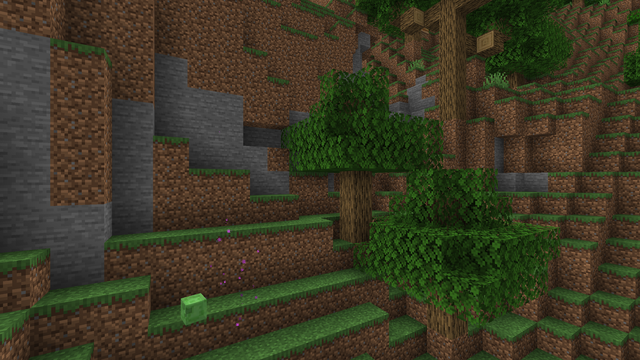slimes: (181, 292, 204, 325)
